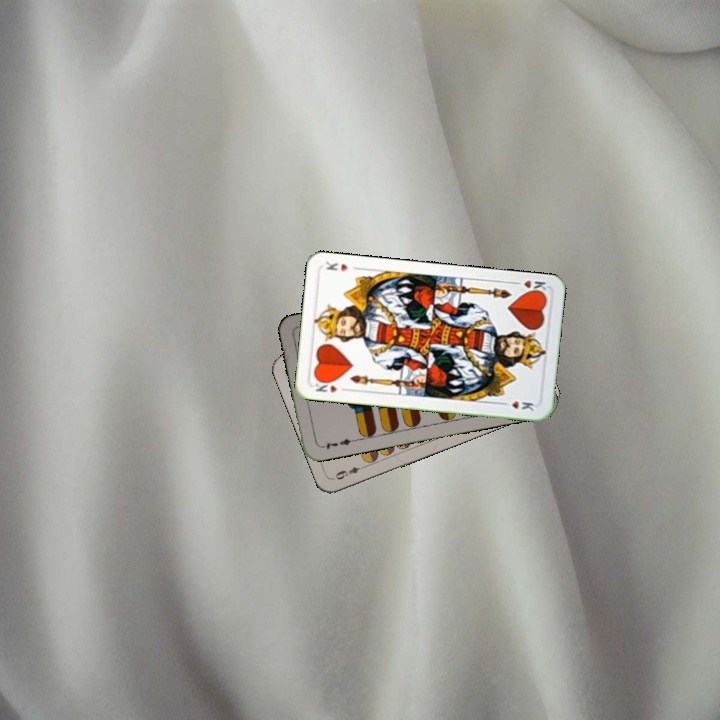E7: (317, 435, 357, 452)
E9: (331, 461, 369, 482)
HK: (509, 276, 549, 297), (311, 376, 350, 395)
